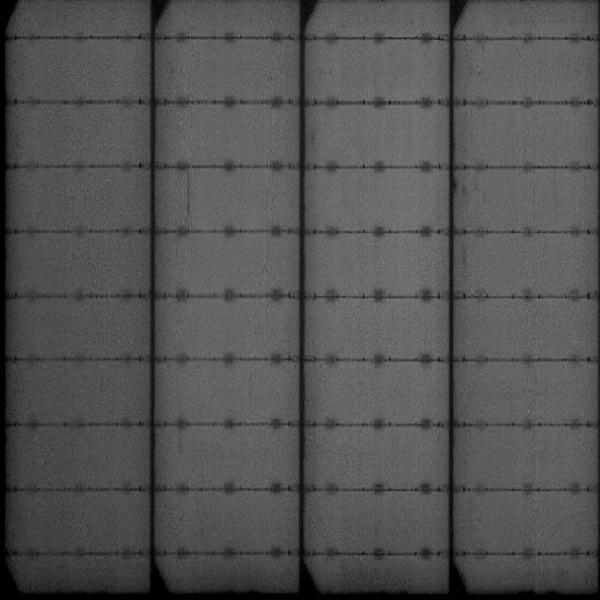scratch: (185, 165, 193, 216)
